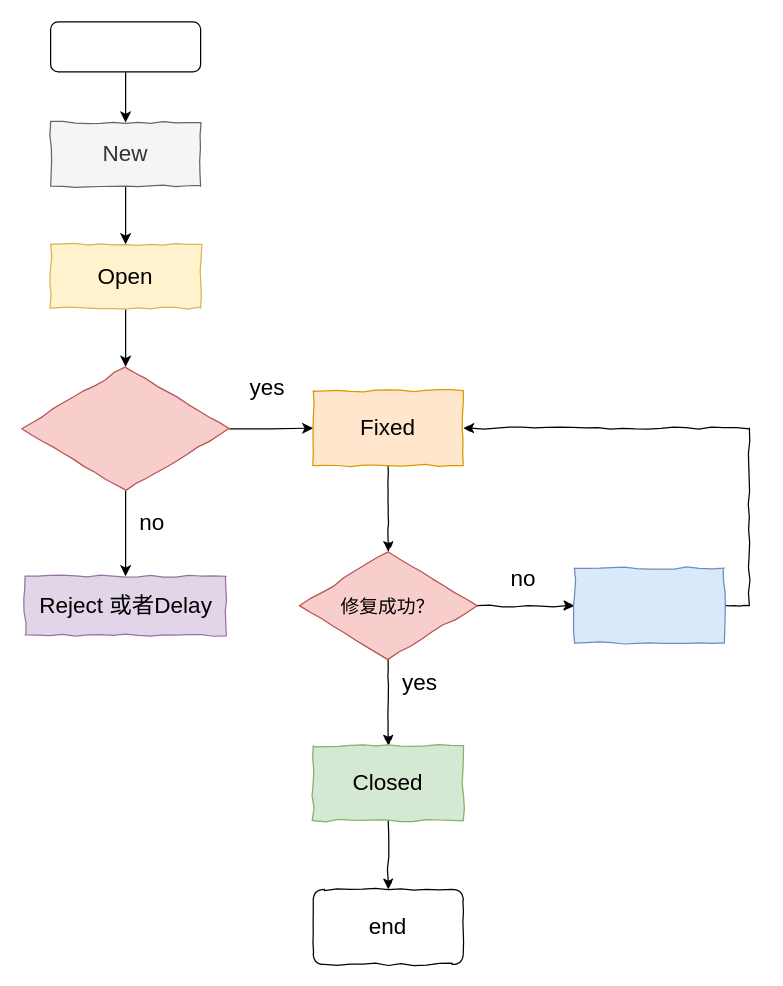
Some shapes in this 783 by 986 pixel diagram are drawn without their labels. Here are the shapes that lost their labels. From the top down, the centre of each, then its label:
At pixel 125 46: "start".
At pixel 125 428: "bug是否修改？".
At pixel 648 605: "Reopen".
